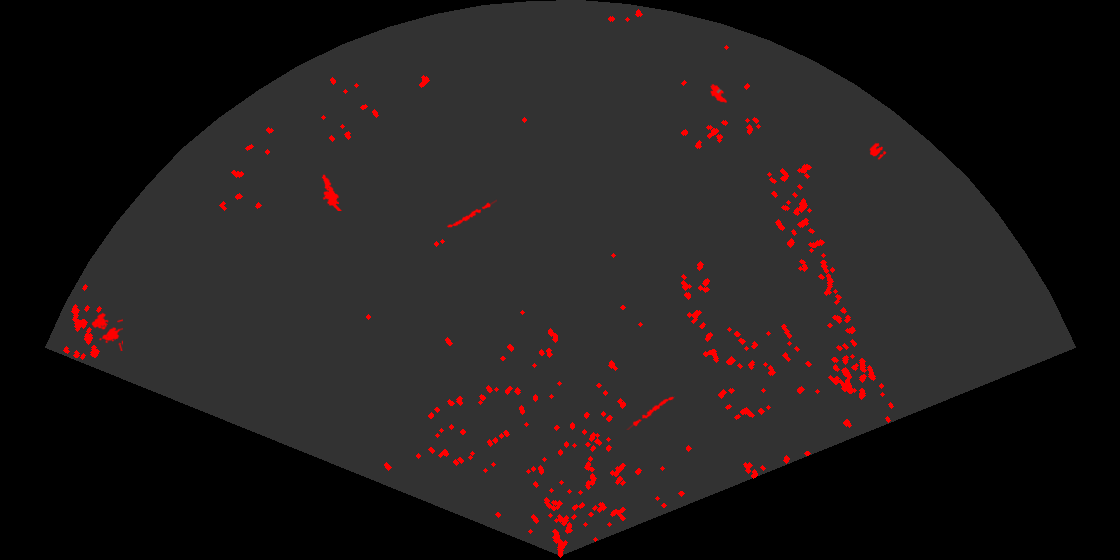AUV: (709, 82, 729, 105)
ball: (868, 141, 888, 162)
cage: (90, 311, 123, 351)
chain: (625, 395, 675, 430), (445, 198, 497, 229)
frogman: (320, 173, 344, 211)
